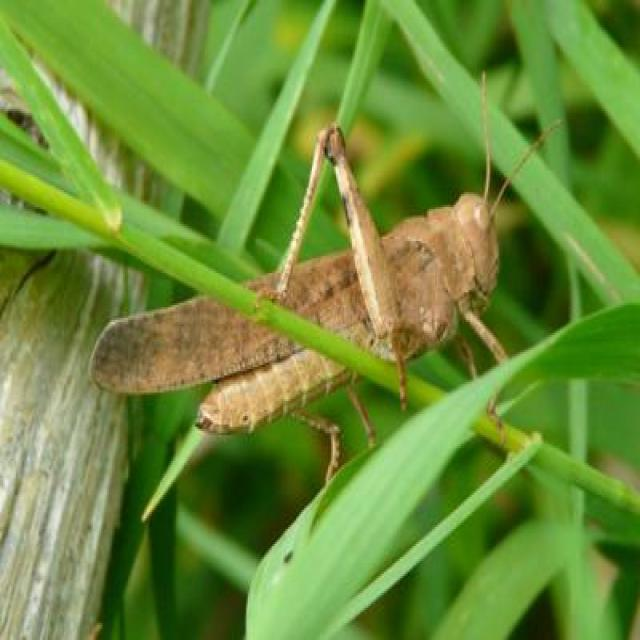antennae: (495, 119, 562, 206), (480, 70, 493, 202)
body: (199, 193, 499, 433)
insect: (88, 65, 565, 497)
legs: (277, 115, 414, 416), (288, 405, 346, 498), (459, 341, 505, 432), (458, 300, 514, 362), (351, 378, 377, 453)
mouthpart: (472, 262, 502, 299)
wings: (90, 232, 418, 390)
